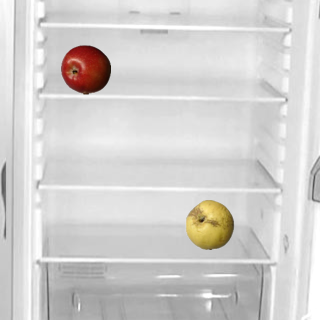Apple Braeburn: (60, 44, 110, 94)
Apple Golden 1: (184, 199, 234, 249)
